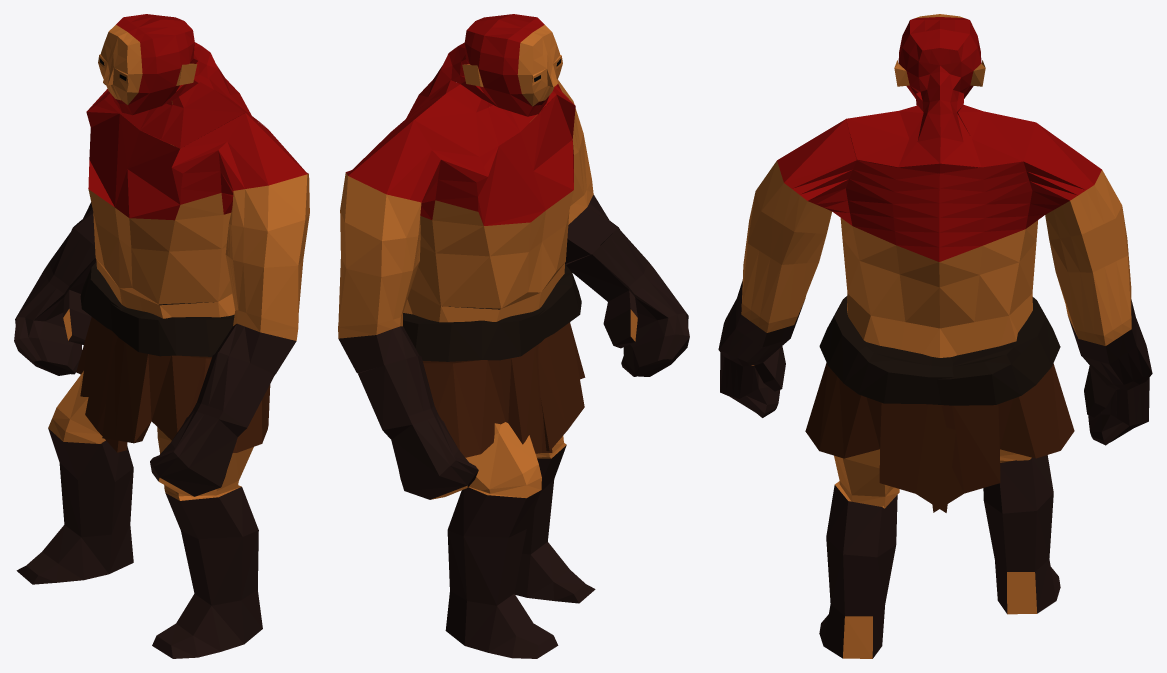
File: Giant_anim_walking.obj
The picture shows the model from 3 angles, left to right: view 1: azimuth 30°, elevation 25°; view 2: azimuth 150°, elevation 25°; view 3: azimuth 270°, elevation 25°; orthographic projection. The views are drawn at different scales.
Visible parts, largest first — view 1: Cube; view 2: Cube; view 3: Cube.
Part boxes in pixels (bbox=[...]): Cube: bbox=[14, 14, 309, 658]; Cube: bbox=[338, 14, 689, 658]; Cube: bbox=[718, 14, 1152, 658].
Size of the model in its own units: 1.38 by 3.88 by 2.52.
